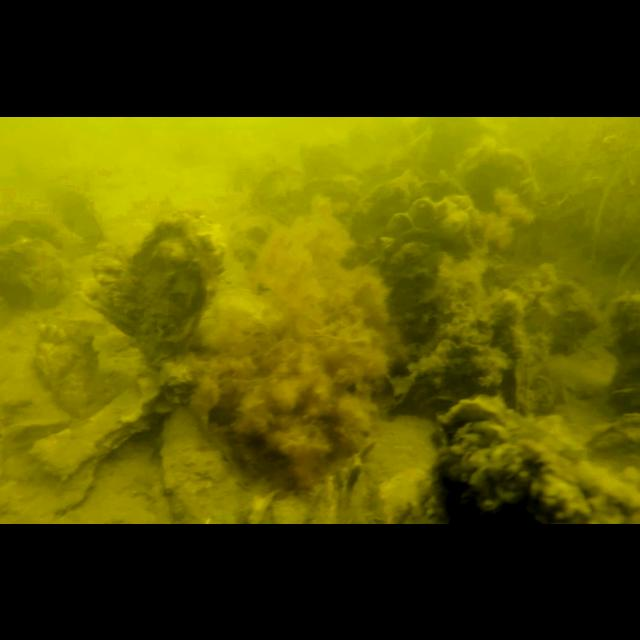Oyster-Closed: (472, 424, 640, 524), (137, 206, 230, 368), (34, 374, 166, 482), (163, 402, 255, 524), (457, 135, 543, 251), (352, 169, 474, 245), (32, 320, 102, 418), (83, 240, 143, 338), (386, 192, 474, 255), (44, 182, 110, 246)
Oyster-Open: (445, 385, 525, 523), (384, 222, 448, 342), (0, 215, 76, 307), (232, 224, 280, 296), (604, 382, 640, 423)
